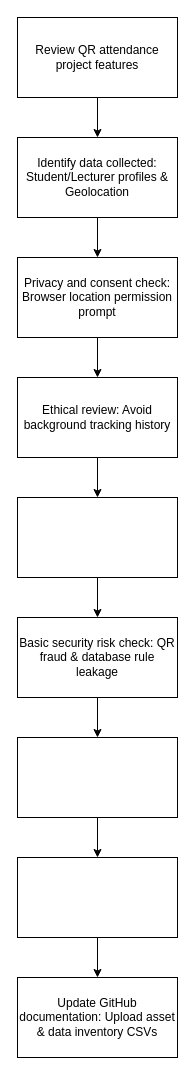
This 195x1075 diagram has some shape labels left out. Each missing label, with the centre of its shape:
IP and third party asset review: MIT licenses & Firebase terms: point (97, 537)
Risk register: Replace raw GPS paths with real-time validation: point (97, 777)
Update requirements: Enforce data minimization rules: point (97, 897)
